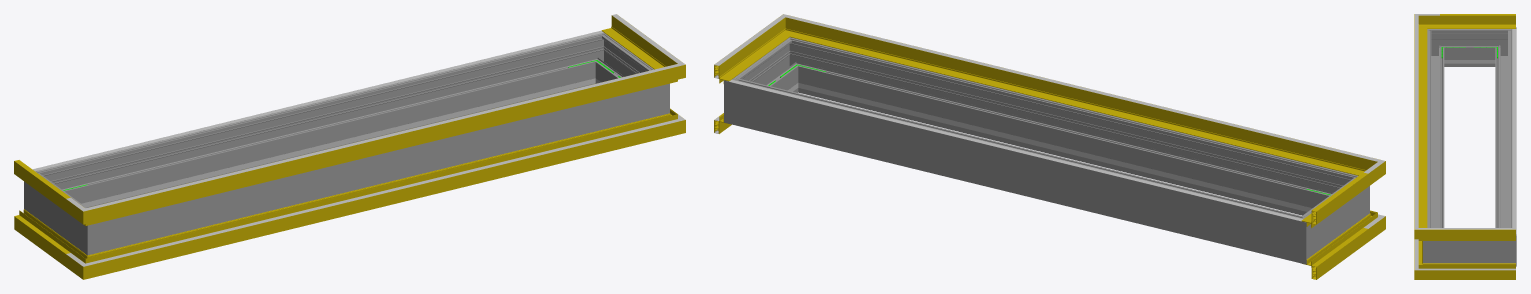
3 renders of one model, left to right at view 1: azimuth 30°, elevation 25°; view 2: azimuth 150°, elevation 25°; view 3: azimuth 270°, elevation 25°, orthographic. The views are drawn at different scales.
Parts seen in each view (by area): view 1: 3DGeom-276, 3DGeom-298, 3DGeom-90, 3DGeom-56, 3DGeom-244, 3DGeom-220, 3DGeom-66, 3DGeom-100, 3DGeom-270, 3DGeom-85, 3DGeom-58, 3DGeom-284 (+9 smaller); view 2: 3DGeom-298, 3DGeom-276, 3DGeom-56, 3DGeom-239, 3DGeom-278, 3DGeom-220, 3DGeom-66, 3DGeom-284, 3DGeom-85, 3DGeom-58, 3DGeom-290, 3DGeom-297 (+6 smaller); view 3: 3DGeom-298, 3DGeom-276, 3DGeom-56, 3DGeom-268, 3DGeom-97, 3DGeom-50, 3DGeom-220, 3DGeom-297, 3DGeom-66, 3DGeom-58, 3DGeom-284, 3DGeom-290 (+15 smaller).
Part boxes in pixels (box(x1,y1,x2,y2)): 3DGeom-276: box(57, 39, 590, 207); 3DGeom-298: box(117, 91, 639, 247); 3DGeom-90: box(108, 118, 655, 272); 3DGeom-56: box(110, 72, 655, 219); 3DGeom-244: box(92, 85, 566, 205); 3DGeom-220: box(32, 30, 603, 171); 3DGeom-66: box(111, 70, 654, 204); 3DGeom-100: box(111, 125, 654, 259); 3DGeom-270: box(70, 203, 117, 255); 3DGeom-85: box(14, 209, 75, 266); 3DGeom-58: box(601, 15, 663, 68); 3DGeom-284: box(579, 32, 618, 84); 3DGeom-298: box(803, 43, 1336, 215); 3DGeom-276: box(754, 84, 1281, 257); 3DGeom-56: box(804, 23, 1352, 172); 3DGeom-239: box(827, 90, 1301, 210); 3DGeom-278: box(1276, 207, 1323, 264); 3DGeom-220: box(729, 79, 1302, 221); 3DGeom-66: box(811, 21, 1354, 155); 3DGeom-284: box(724, 69, 759, 129); 3DGeom-85: box(1302, 222, 1368, 279); 3DGeom-58: box(714, 28, 780, 83); 3DGeom-290: box(775, 37, 814, 93); 3DGeom-297: box(746, 48, 795, 91); 3DGeom-298: box(1427, 38, 1444, 227); 3DGeom-276: box(1495, 38, 1512, 227); 3DGeom-56: box(1414, 25, 1427, 227); 3DGeom-268: box(1448, 29, 1490, 66); 3DGeom-97: box(1440, 263, 1515, 279); 3DGeom-50: box(1440, 15, 1515, 28); 3DGeom-220: box(1512, 29, 1516, 234); 3DGeom-297: box(1448, 241, 1490, 263); 3DGeom-66: box(1414, 24, 1418, 218); 3DGeom-58: box(1440, 229, 1515, 240); 3DGeom-284: box(1491, 225, 1516, 266); 3DGeom-290: box(1423, 225, 1448, 263).
Bounding box in the file's own units: 3.05 × 0.3303 × 0.6096.
